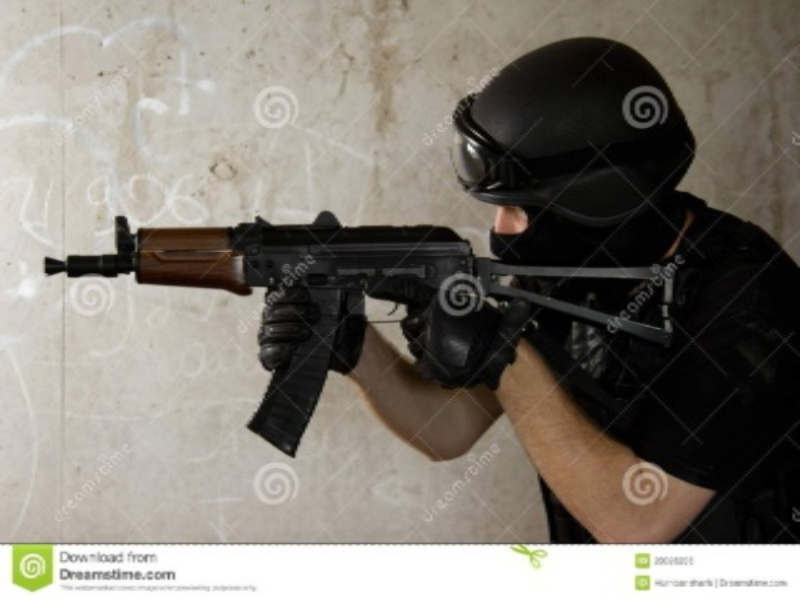person: (260, 37, 800, 544)
weapon: (45, 217, 689, 457)
